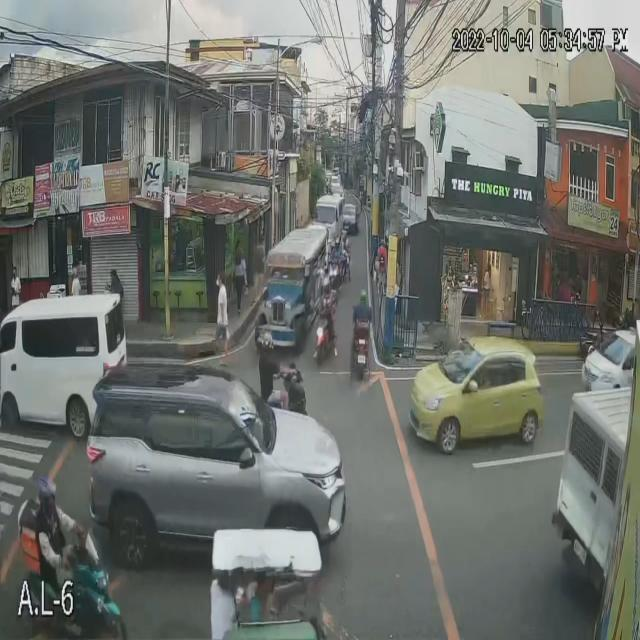full: (37, 477, 58, 517)
